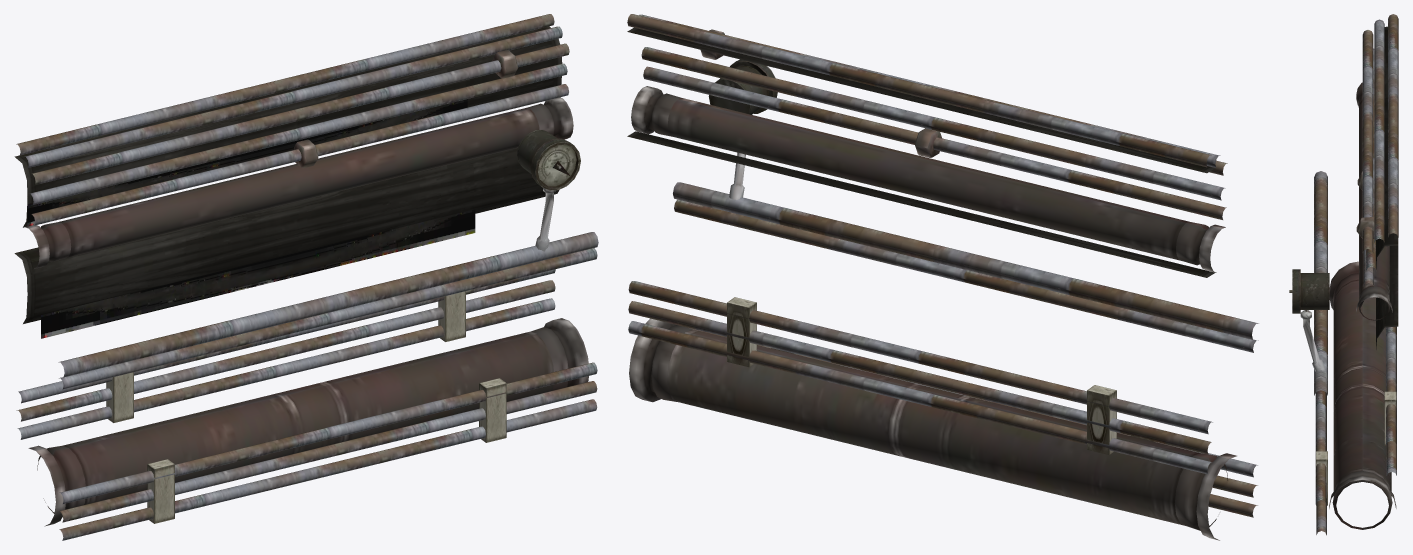
The model's file is submarine_greeble_150x100_02_curved.glb.
The picture shows the model from 3 angles, left to right: view 1: azimuth 30°, elevation 25°; view 2: azimuth 150°, elevation 25°; view 3: azimuth 270°, elevation 25°; orthographic projection. The views are drawn at different scales.
Visible parts, largest first — view 1: submarine_greeble_150x100_02_curved_LOD0; view 2: submarine_greeble_150x100_02_curved_LOD0; view 3: submarine_greeble_150x100_02_curved_LOD0.
Part boxes in pixels (<box>): submarine_greeble_150x100_02_curved_LOD0: <box>14,14,598,540</box>; submarine_greeble_150x100_02_curved_LOD0: <box>627,14,1258,540</box>; submarine_greeble_150x100_02_curved_LOD0: <box>1289,14,1398,535</box>.
Bounding box in the file's own units: 1.5 × 0.9884 × 0.3158.
Materials: 2 (2 with a texture image).
